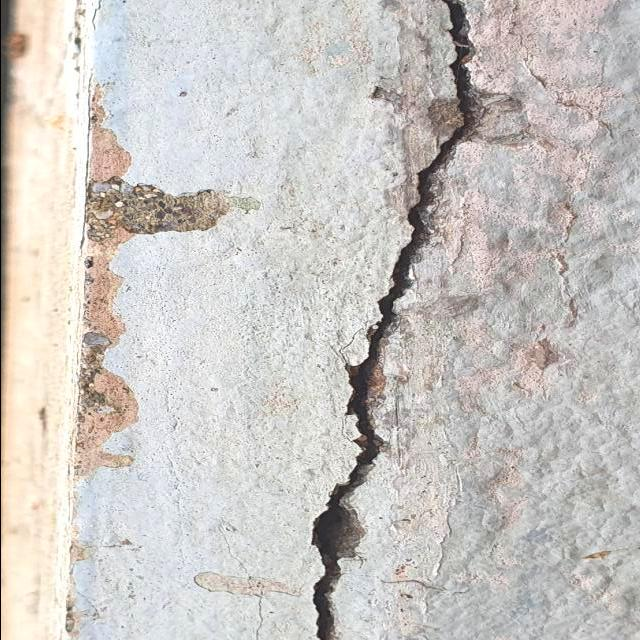SurfaceCrack: (268, 1, 517, 640)
